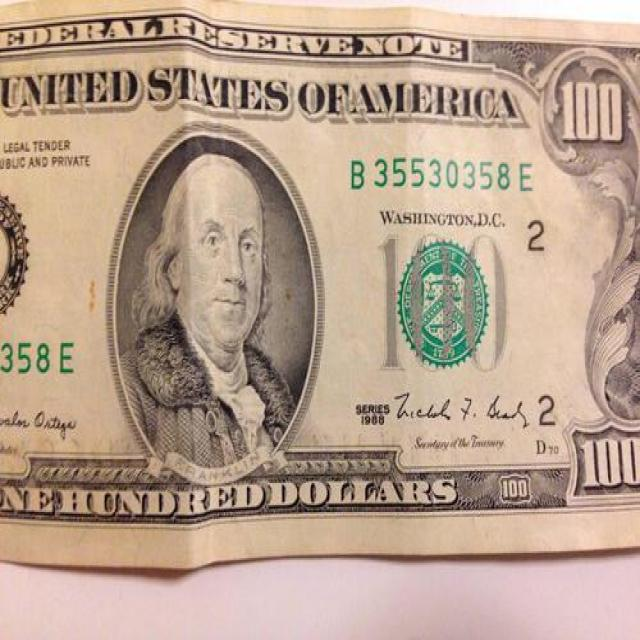100-Front: (0, 0, 640, 572)
